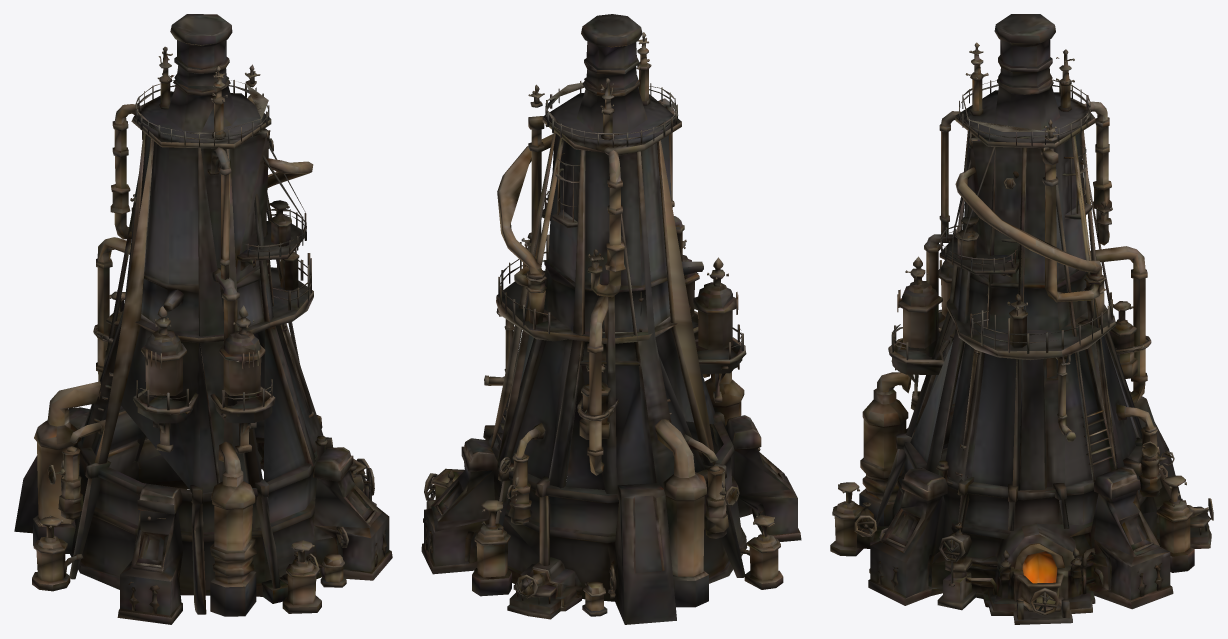
File: blastFurnace.glb
3 views of the same model, side by side, from view 1: azimuth 30°, elevation 25°; view 2: azimuth 150°, elevation 25°; view 3: azimuth 270°, elevation 25° (orthographic).
Visible parts, largest first — view 1: tripo_node_b456adac-4a36-4009-aa0f-4f6aaccb75f7; view 2: tripo_node_b456adac-4a36-4009-aa0f-4f6aaccb75f7; view 3: tripo_node_b456adac-4a36-4009-aa0f-4f6aaccb75f7.
Part boxes in pixels (left/top/right/bottom): tripo_node_b456adac-4a36-4009-aa0f-4f6aaccb75f7: left=14, top=14, right=392, bottom=624; tripo_node_b456adac-4a36-4009-aa0f-4f6aaccb75f7: left=421, top=14, right=801, bottom=624; tripo_node_b456adac-4a36-4009-aa0f-4f6aaccb75f7: left=830, top=14, right=1213, bottom=624.
Bounding box in the file's own units: 0.6816 × 0.998 × 0.6699.
Materials: 1 (1 with a texture image).
